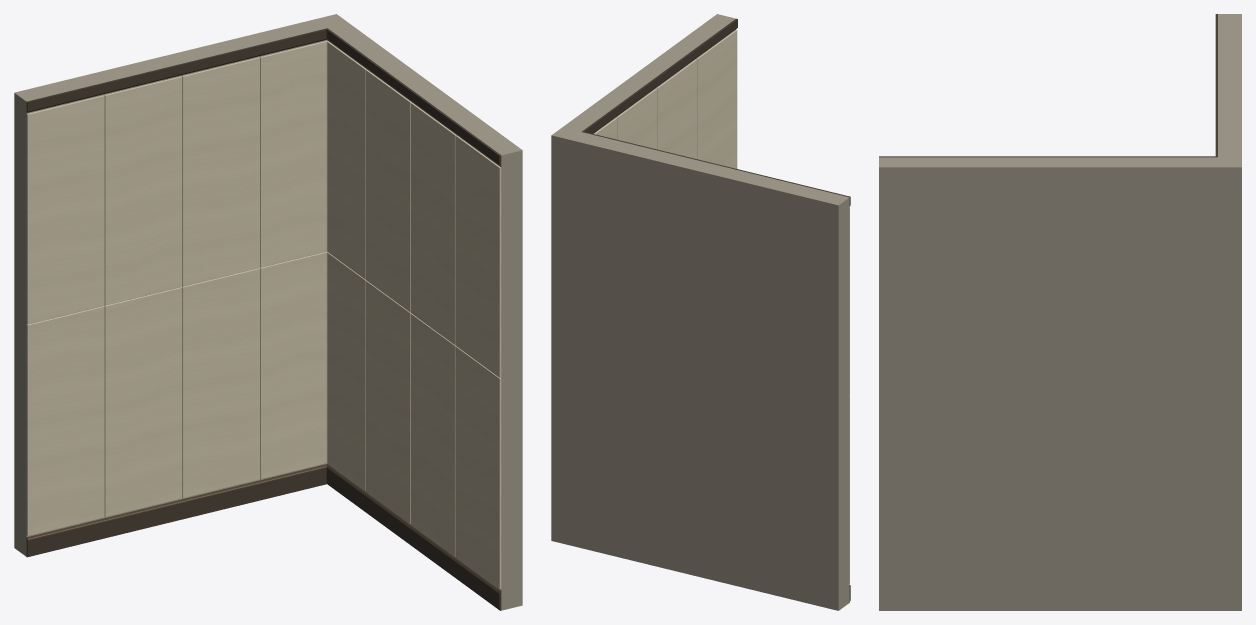
File: mall-wall-corner-2m.glb
The picture shows the model from 3 angles, left to right: view 1: azimuth 30°, elevation 25°; view 2: azimuth 150°, elevation 25°; view 3: azimuth 270°, elevation 25°; orthographic projection. The views are drawn at different scales.
Parts seen in each view (by area): view 1: West Honed limestone 1-2, West Honed limestone 1-1, West Honed limestone 2-1, West Honed limestone 2-2, West Honed limestone 1-3, West Honed limestone 2-3, West Honed limestone 1-4, West Honed limestone 2-4, Return Continuous backing LOD0, West Continuous backing LOD0, Return Honed limestone 1-1, Return Honed limestone 2-1 (+10 smaller); view 2: West Continuous backing LOD0, Return Honed limestone 2-1, Return Honed limestone 2-2, Return Continuous backing LOD0, Return Honed limestone 2-3, Return Bronze trims LOD0, West Bronze trims LOD0; view 3: Return Continuous backing LOD0, West Continuous backing LOD0, Return Bronze trims LOD0.
Boxes of the visible parts, left/top/right/bottom form: West Honed limestone 1-2: left=104, top=287, right=182, bottom=517; West Honed limestone 1-1: left=26, top=306, right=104, bottom=535; West Honed limestone 2-1: left=26, top=95, right=104, bottom=324; West Honed limestone 2-2: left=104, top=76, right=182, bottom=305; West Honed limestone 1-3: left=182, top=268, right=259, bottom=498; West Honed limestone 2-3: left=182, top=57, right=259, bottom=286; West Honed limestone 1-4: left=260, top=251, right=327, bottom=479; West Honed limestone 2-4: left=260, top=40, right=327, bottom=267; Return Continuous backing LOD0: left=327, top=14, right=522, bottom=610; West Continuous backing LOD0: left=14, top=14, right=336, bottom=556; Return Honed limestone 1-1: left=455, top=346, right=501, bottom=589; Return Honed limestone 2-1: left=455, top=135, right=501, bottom=377; West Continuous backing LOD0: left=551, top=132, right=849, bottom=610; Return Honed limestone 2-1: left=696, top=30, right=737, bottom=168; Return Honed limestone 2-2: left=656, top=59, right=697, bottom=158; Return Continuous backing LOD0: left=552, top=14, right=736, bottom=135; Return Honed limestone 2-3: left=616, top=88, right=657, bottom=149; Return Bronze trims LOD0: left=582, top=18, right=737, bottom=133; West Bronze trims LOD0: left=582, top=131, right=850, bottom=206; Return Continuous backing LOD0: left=879, top=157, right=1241, bottom=610; West Continuous backing LOD0: left=1218, top=14, right=1241, bottom=166; Return Bronze trims LOD0: left=879, top=156, right=1217, bottom=157.
Bounding box in the file's own units: 2.08 × 2.8 × 2.08.
4 materials, 1 textured.
